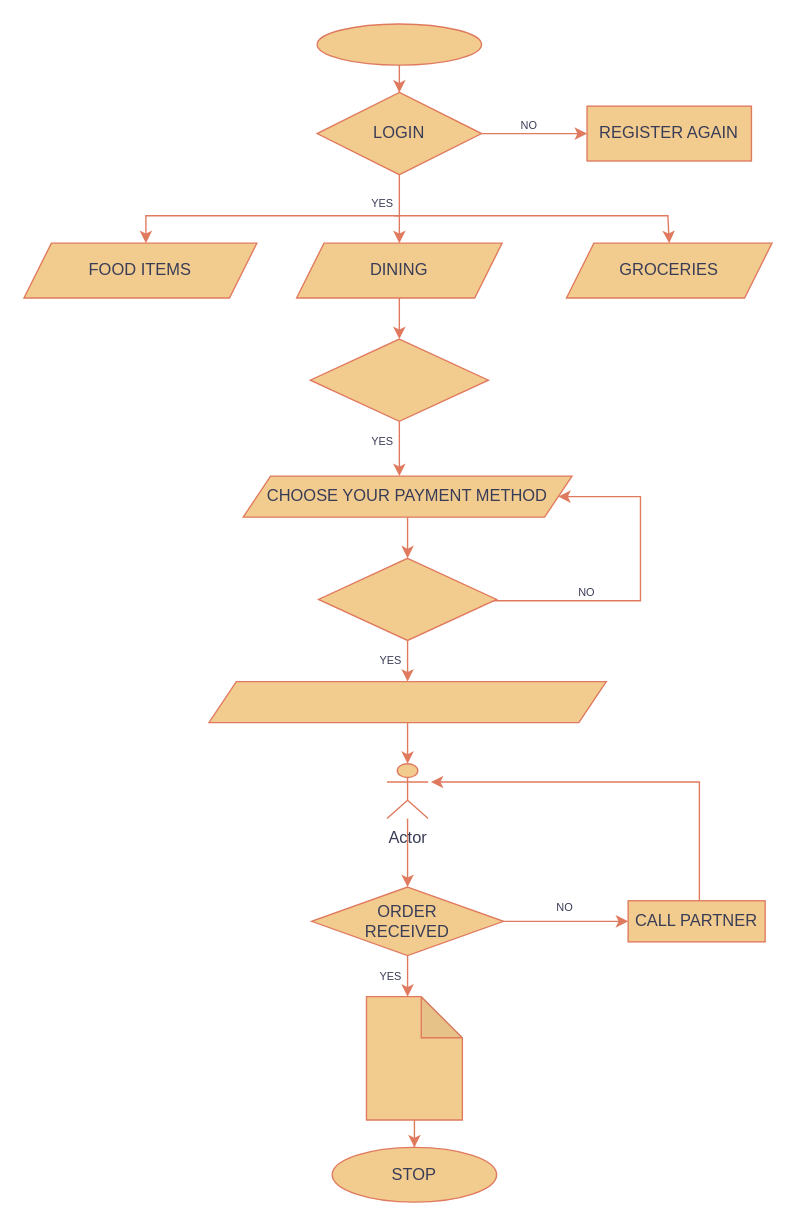
The diagram is 796 pixels wide and 1226 high, and some of its shapes have lost their labels. The centre of each missing label's shape, as x and y in pixels:
CONFIRM YOUR ORDER: (398,379)
FEED BACK: (413,1057)
FILL YOUR DETAILS(ADDRESS,NUMBER): (407,701)
PAYMENT DONE?: (407,598)
START: (399,44)
